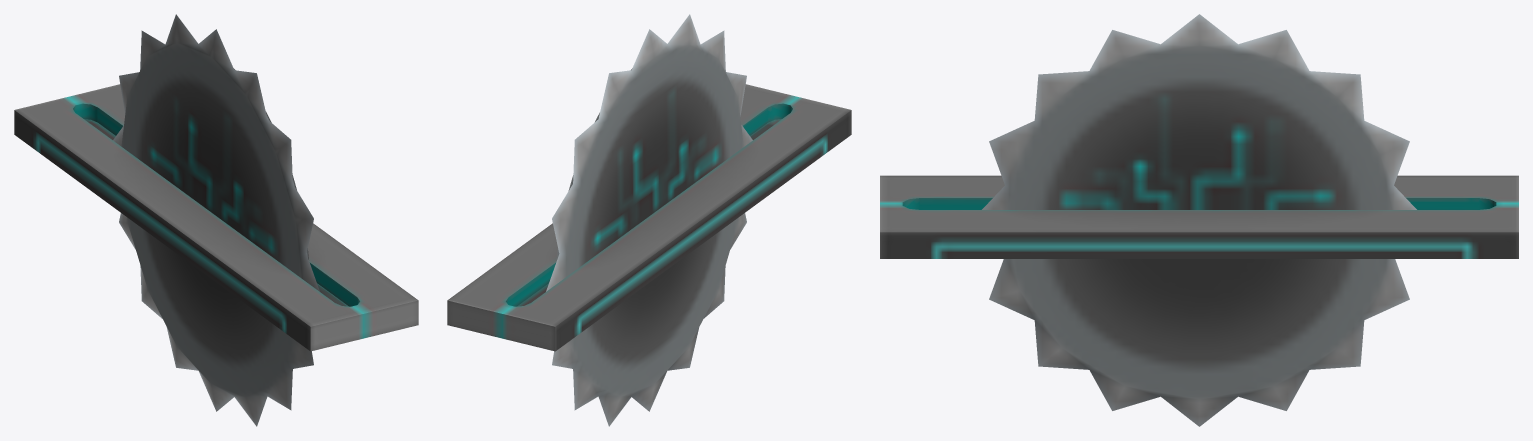
The model's file is Obstacle_03.fbx.
3 views of the same model, side by side, from view 1: azimuth 30°, elevation 25°; view 2: azimuth 150°, elevation 25°; view 3: azimuth 270°, elevation 25° (orthographic). The views are drawn at different scales.
Parts seen in each view (by area): view 1: Obstacle_03; view 2: Obstacle_03; view 3: Obstacle_03.
Part boxes in pixels (x1,y1,x2,y2): Obstacle_03: [14, 14, 418, 426]; Obstacle_03: [447, 14, 851, 426]; Obstacle_03: [880, 14, 1518, 426].
Bounding box in the file's own units: 1.18 × 3.99 × 5.6.
Materials: 1 (1 with a texture image).
